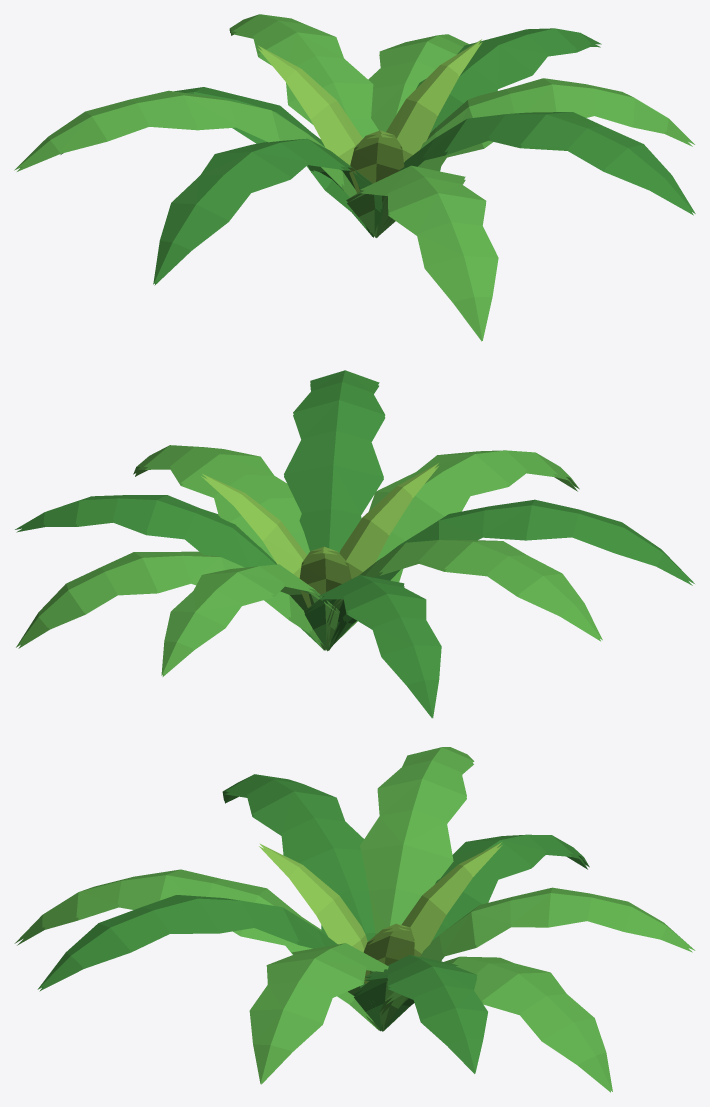
The model's file is Prop_Fern.fbx.
3 views of the same model, one above another, from view 1: azimuth 30°, elevation 25°; view 2: azimuth 150°, elevation 25°; view 3: azimuth 270°, elevation 25° (orthographic). The views are drawn at different scales.
Parts seen in each view (by area): view 1: Prop_Fern; view 2: Prop_Fern; view 3: Prop_Fern.
Part boxes in pixels (x1,y1,x2,y2): Prop_Fern: (14, 14, 695, 341); Prop_Fern: (15, 370, 694, 718); Prop_Fern: (14, 747, 695, 1092).
Size of the model in its own units: 0.868 by 0.2375 by 0.8601.
